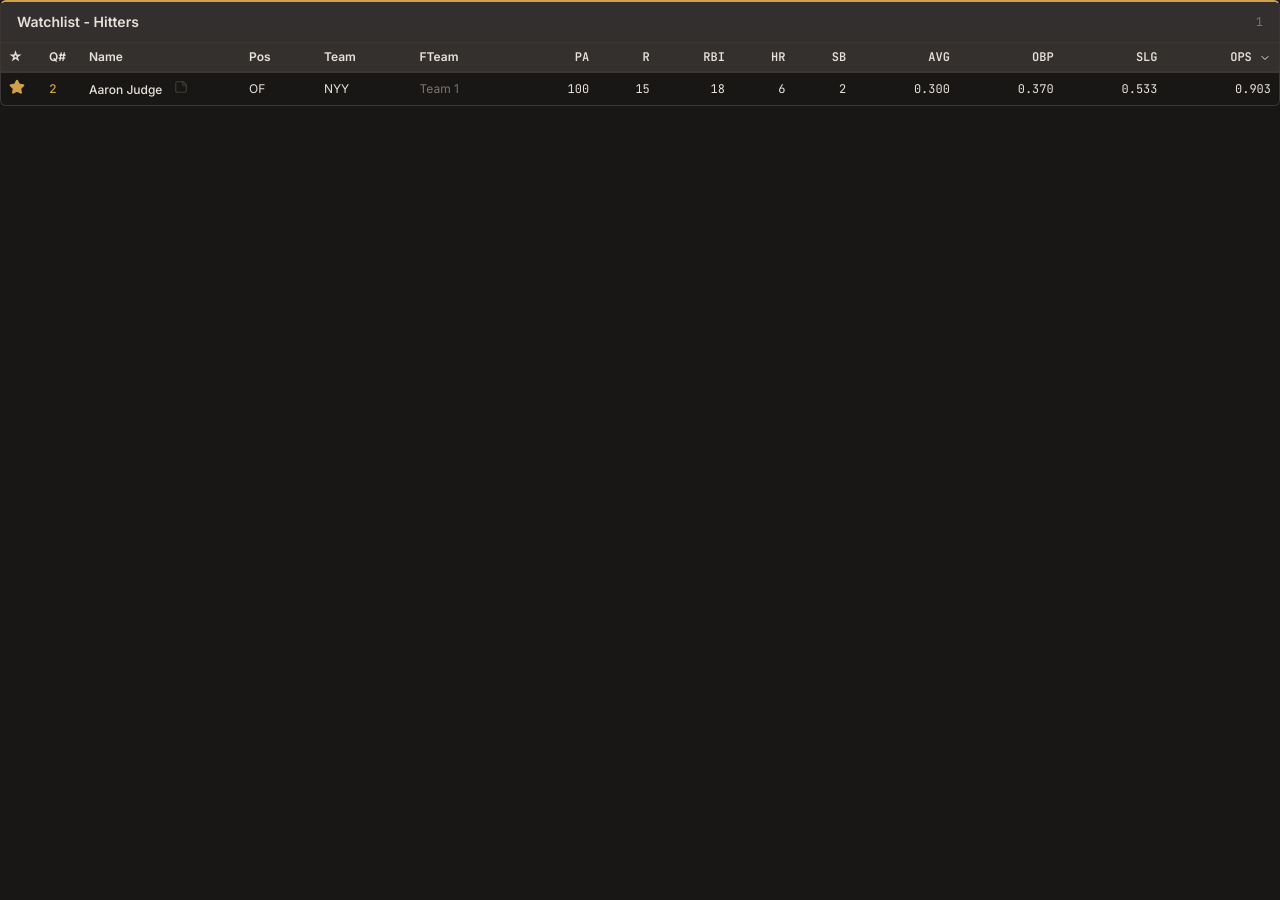
Test: WatchlistTable › should show queue position info in confirm dialog when player is in queue
The width and height of the screenshot is (1280, 900).
Click the button named "Remove Aaron Judge from watchlist": (17, 87) x1=9 y1=79 x2=25 y2=95
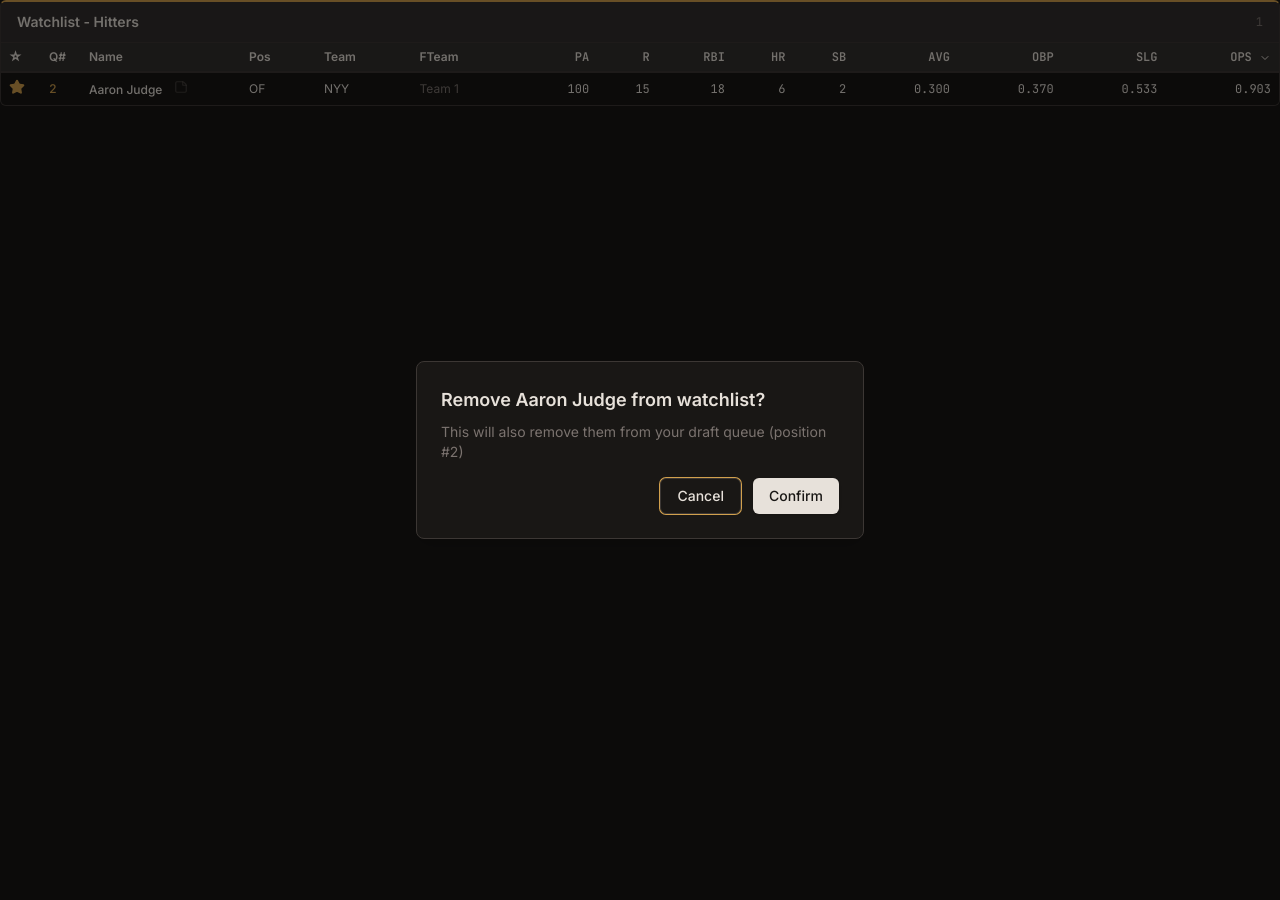
Expected: the text "This will also remove them from your draft queue (position #2)" is shown, x1=441 y1=422 x2=839 y2=462
